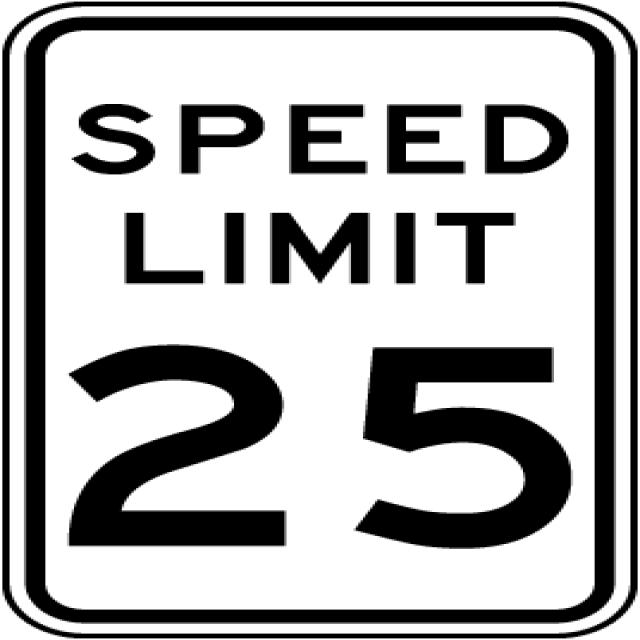Speed Limit Signs: (5, 2, 633, 635)
